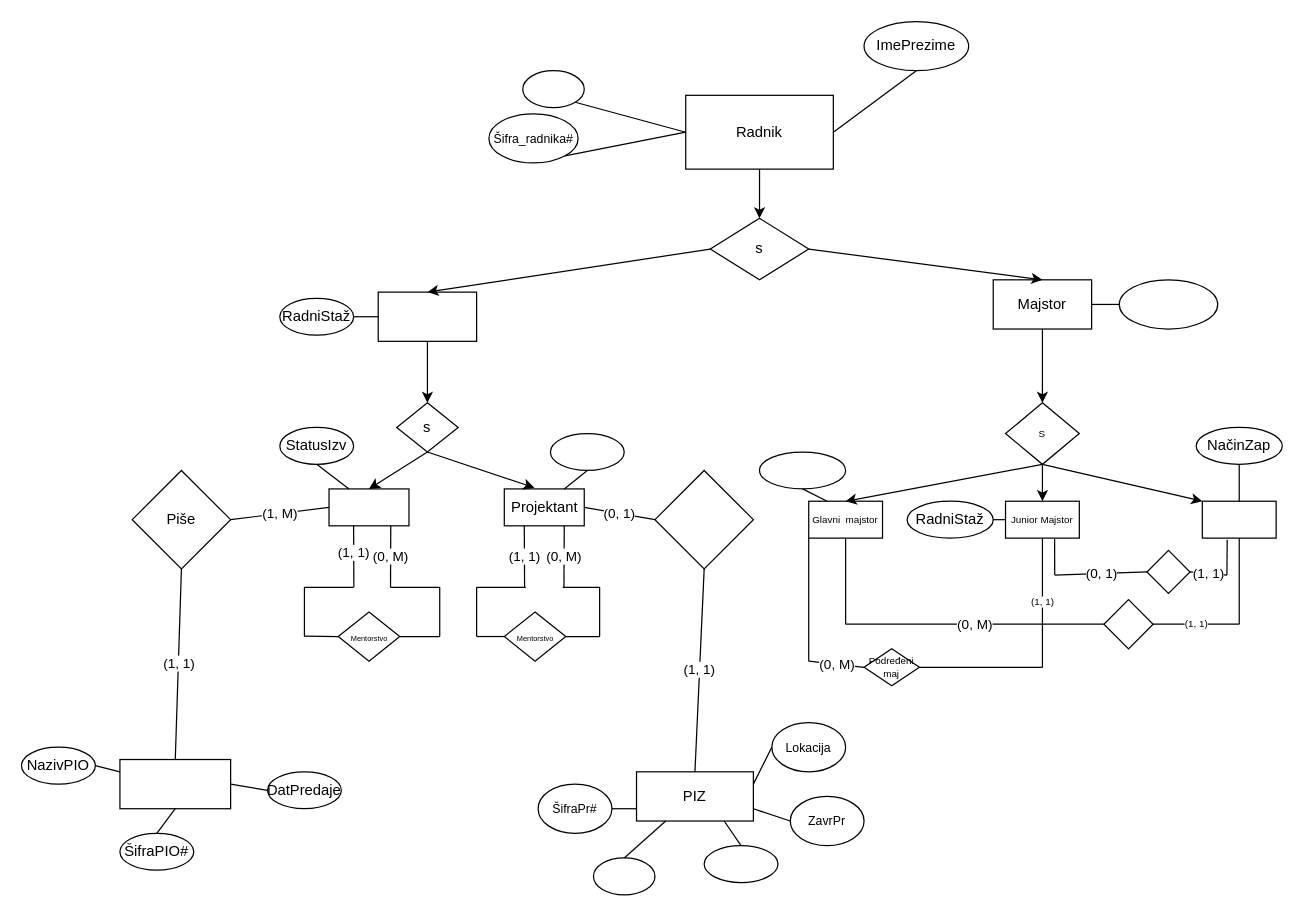
The diagram is 1304 pixels wide and 916 high, and some of its shapes have lost their labels. The shapes that lost their labels are listed below. From the top down, each one's centre as x and y in pixels, then its label:
(553,88): Plata
(427,316): Inženjer
(1168,304): Specijalizacija
(586,451): StatusPro
(802,470): Sertifikat
(368,507): Izvođač
(703,519): Vodi
(1238,519): Pomoćnik
(1168,571): Maj_pom
(1128,623): Podređ pom
(175,783): PIO
(623,876): ObimPr
(740,863): PočPr
